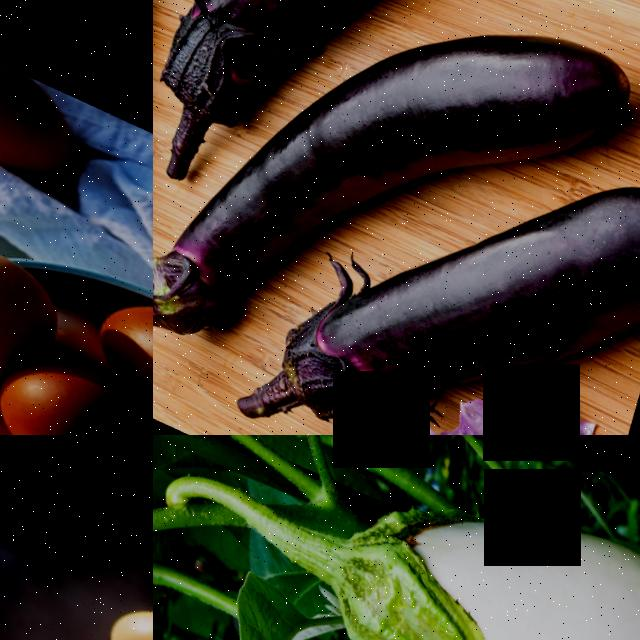egg_: (0, 320, 153, 435), (0, 13, 92, 182), (0, 184, 64, 404), (73, 256, 153, 400)
eggplant: (417, 95, 640, 419), (318, 435, 640, 640), (153, 98, 351, 387), (363, 0, 640, 201), (254, 207, 490, 435), (153, 0, 238, 297), (232, 0, 474, 59)
